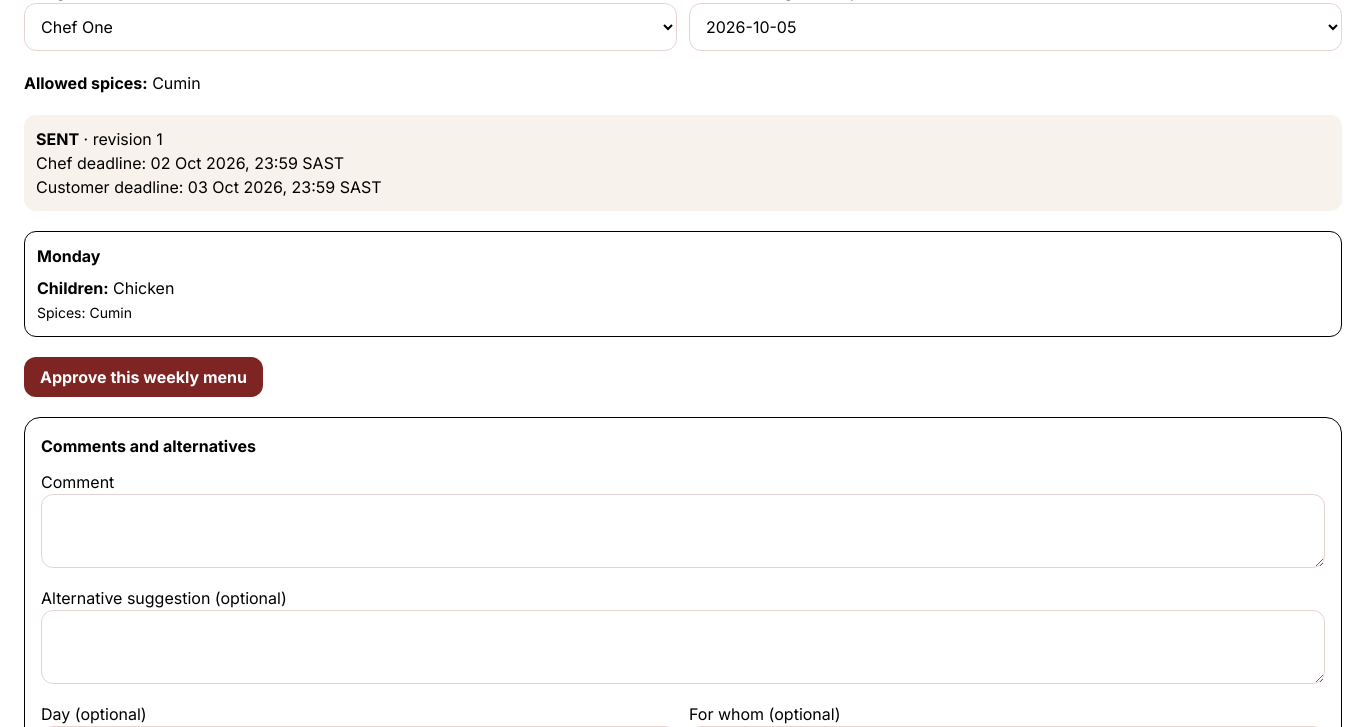
Test: weekly menus › shows API failures instead of pretending a save succeeded
This screenshot has width=1366, height=727.
(page scrolled)
Step 1. Click the button "Approve this weekly menu" → (144, 377), box [24,357,263,397]
(page scrolled)
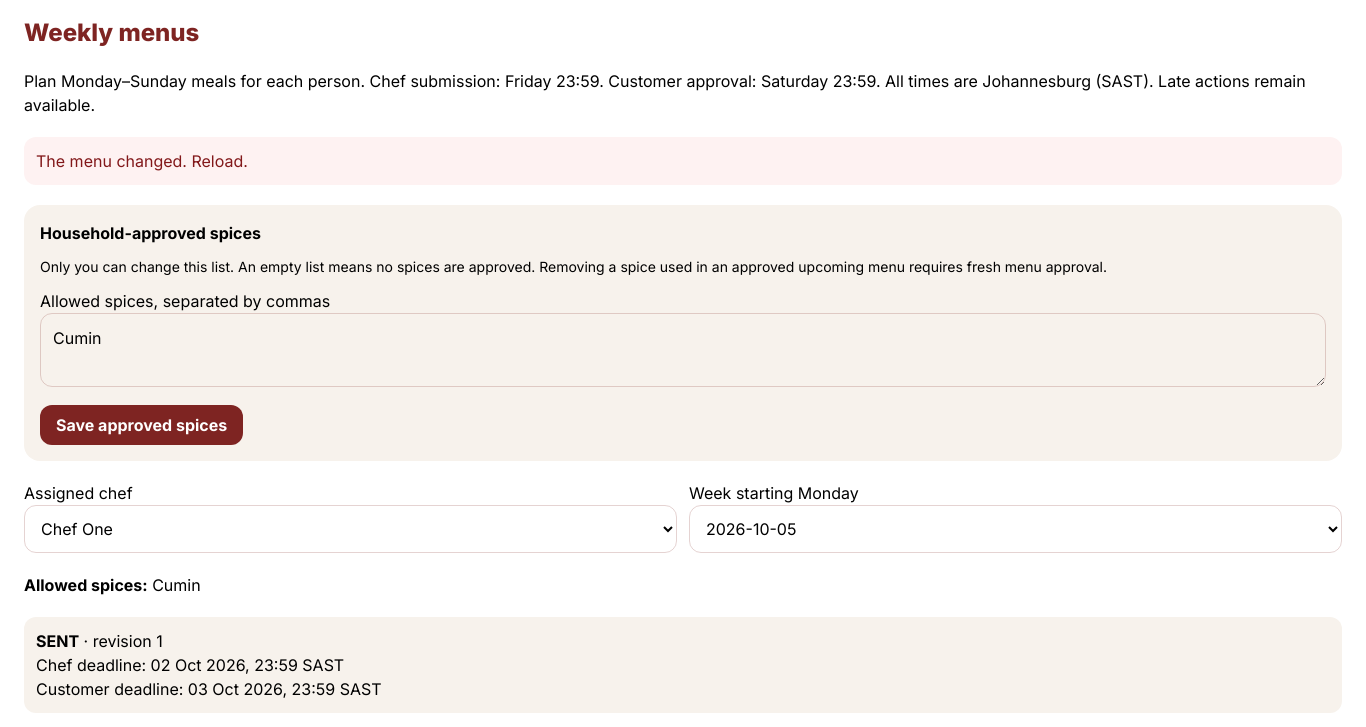
Check: the message reads "The menu changed. Reload.", box [36,151,248,171]
